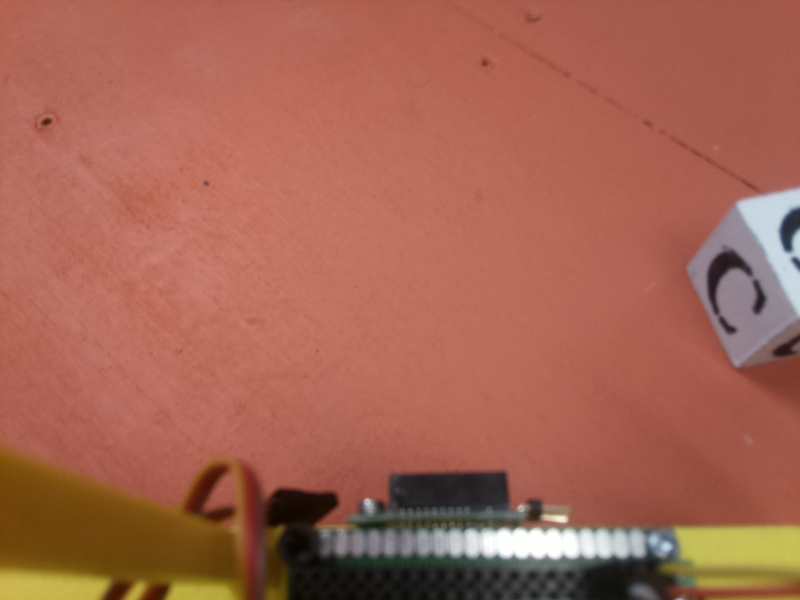blockC: (679, 186, 800, 369)
